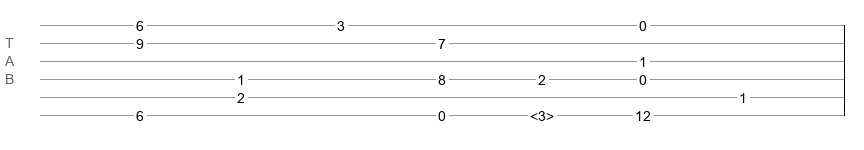0: (438, 108, 446, 118), (639, 18, 647, 28), (639, 72, 647, 82)
1: (237, 72, 245, 82), (639, 54, 647, 64), (739, 90, 747, 100)
12: (635, 108, 651, 118)
2: (237, 90, 245, 100), (538, 72, 546, 82)
3: (337, 18, 345, 28)
6: (136, 108, 144, 118), (136, 18, 144, 28)
7: (438, 36, 446, 46)
8: (438, 72, 446, 82)
9: (136, 36, 144, 46)
harmonic: (530, 108, 554, 118)
